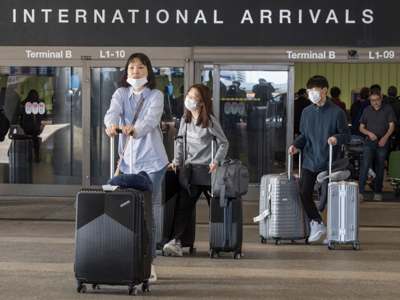mask_weared_incorrect: (126, 62, 147, 91)
with_mask: (184, 91, 201, 115), (307, 86, 323, 105)
without_mask: (370, 95, 381, 108)
